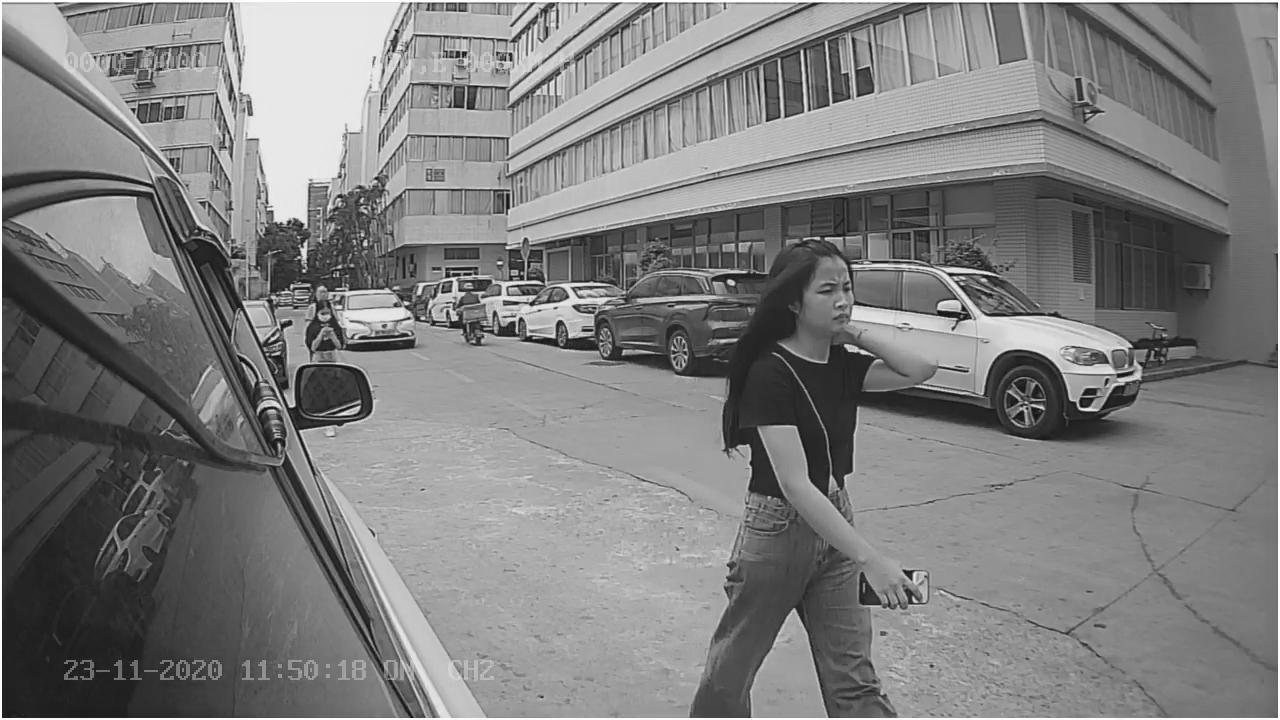person: (718, 239, 935, 612)
